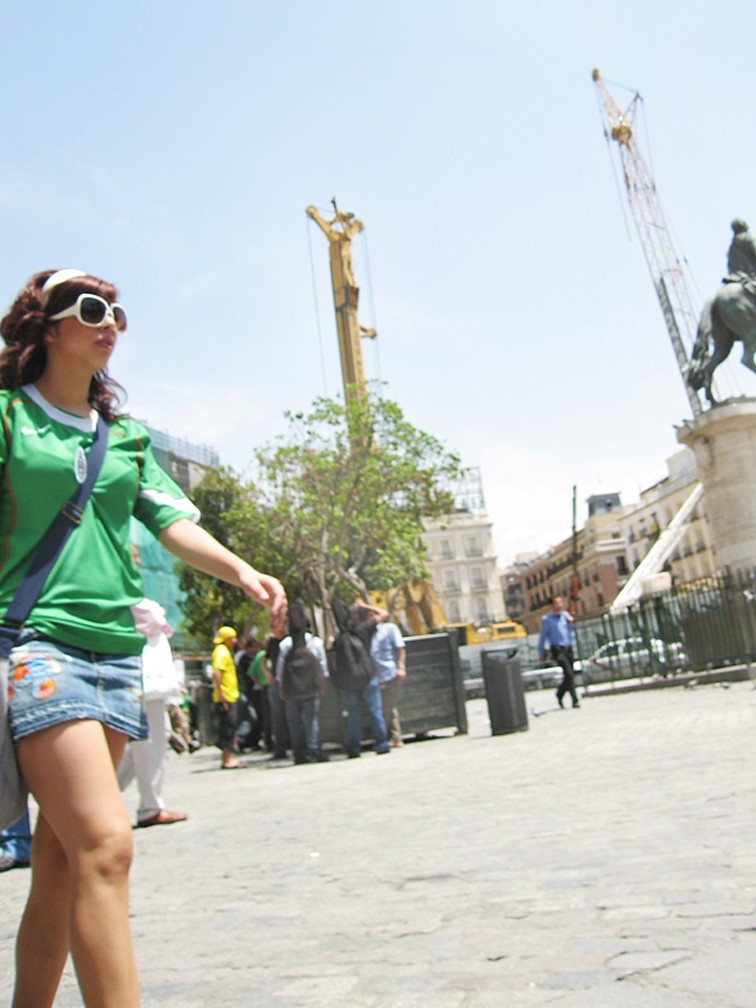face_no_mask: (35, 270, 118, 364)
